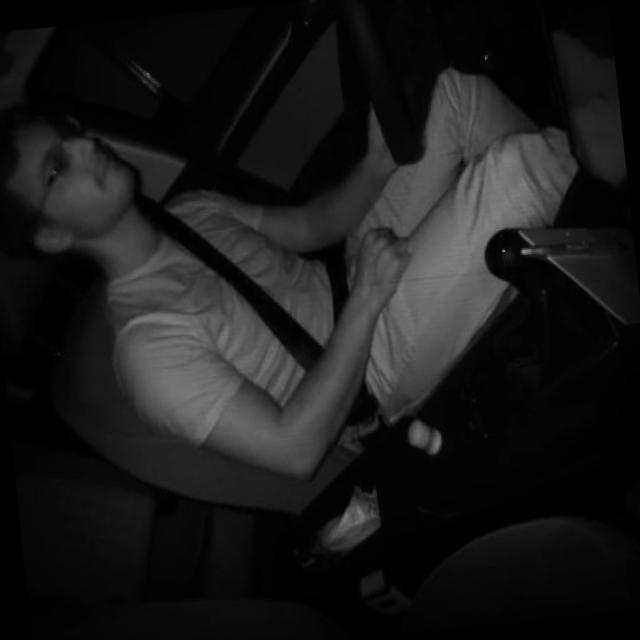pen: (518, 234, 631, 262)
